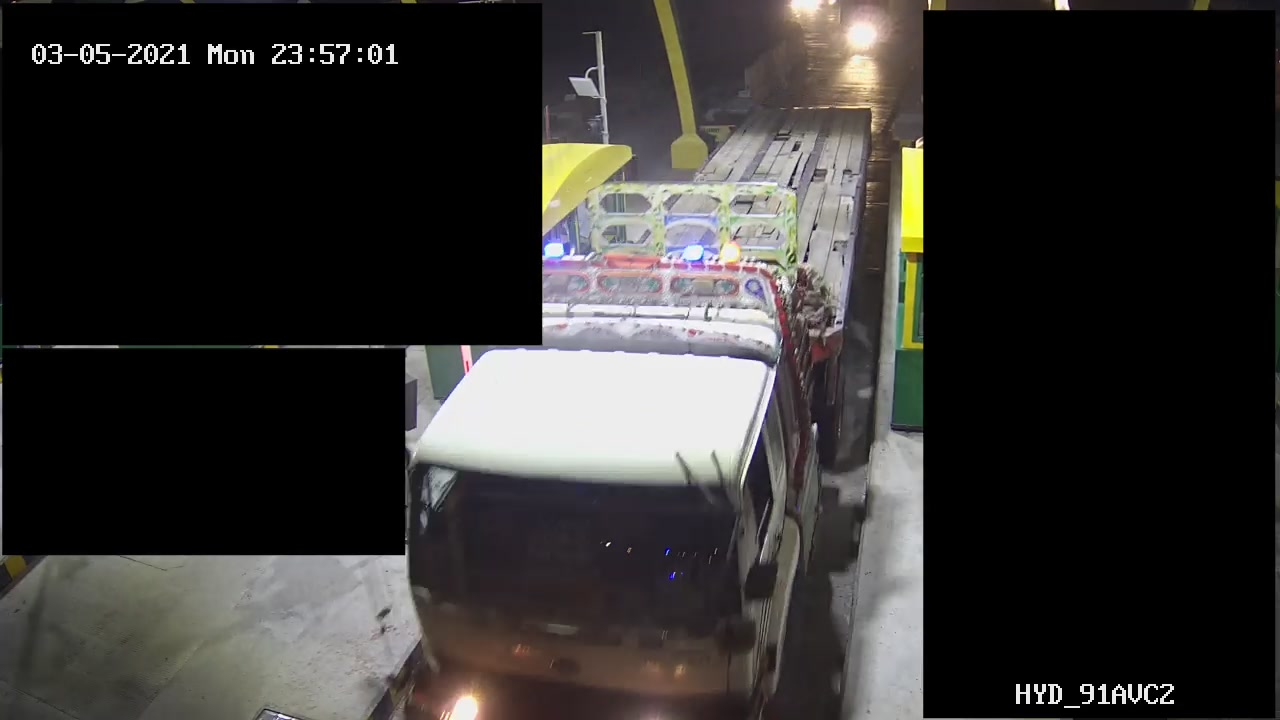F6: (403, 103, 882, 720)
